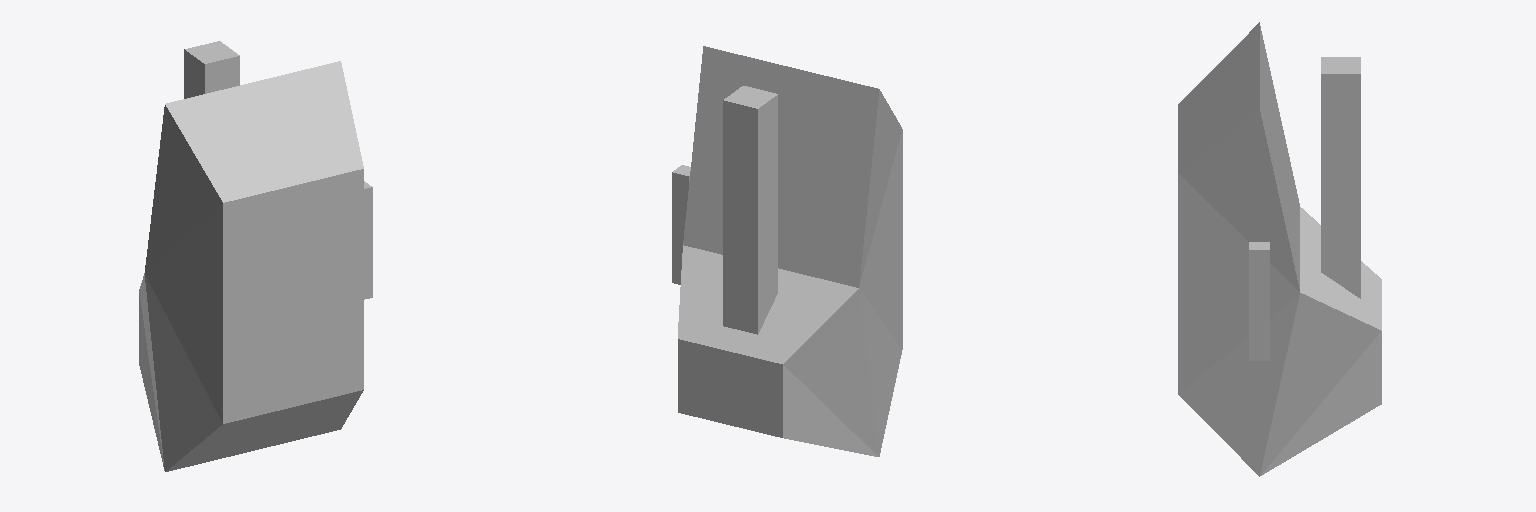
The model's file is heavytank3inv.obj.
3 renders of one model, left to right at view 1: azimuth 30°, elevation 25°; view 2: azimuth 150°, elevation 25°; view 3: azimuth 270°, elevation 25°, orthographic.
Visible parts, largest first — view 1: heavytank3inv; view 2: heavytank3inv; view 3: heavytank3inv.
Part boxes in pixels (x1,y1,x2,y2): heavytank3inv: (139,41,372,471); heavytank3inv: (672,46,902,456); heavytank3inv: (1178,22,1381,476).
Size of the model in its own units: 1.15 by 2 by 1.